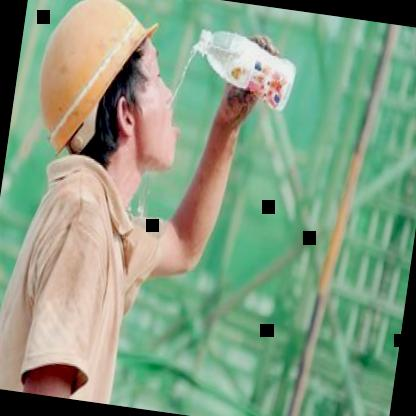helmet: (17, 0, 207, 191)
